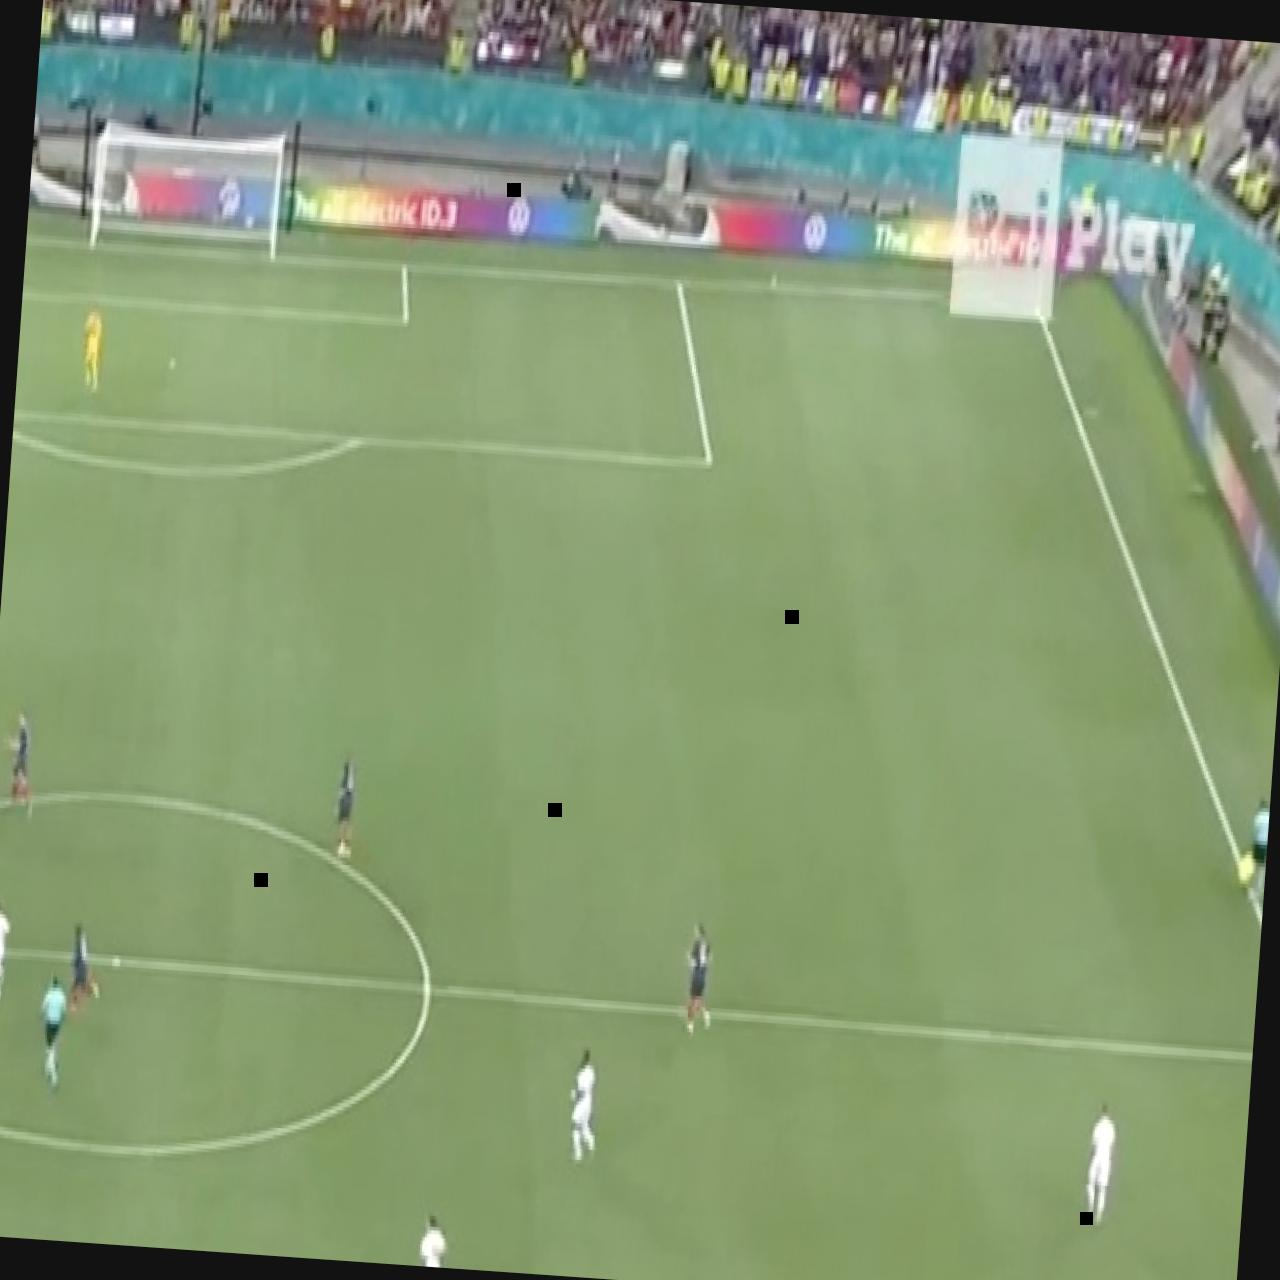football: (678, 911, 722, 1042), (62, 904, 108, 1026), (1082, 1092, 1122, 1230), (566, 1044, 605, 1175), (34, 968, 73, 1095), (1, 703, 43, 819), (1234, 784, 1271, 904), (328, 750, 360, 866), (75, 296, 107, 394), (414, 1211, 452, 1268), (0, 897, 16, 1009), (0, 704, 4, 821)
